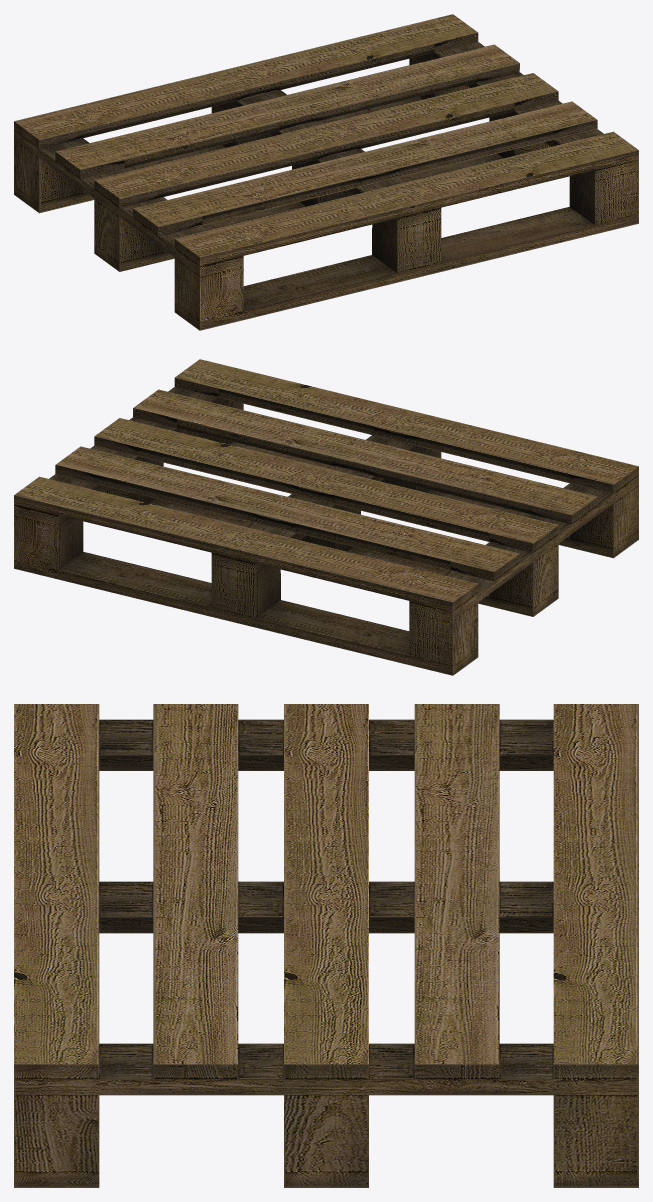
Rendered from pallet.glb.
The picture shows the model from 3 angles, top to bottom: view 1: azimuth 30°, elevation 25°; view 2: azimuth 150°, elevation 25°; view 3: azimuth 270°, elevation 25°; orthographic projection. The views are drawn at different scales.
Parts seen in each view (by area): view 1: Pallet; view 2: Pallet; view 3: Pallet.
Part boxes in pixels (box(x1,y1,x2,y2)): Pallet: box(14, 14, 638, 330); Pallet: box(14, 359, 638, 675); Pallet: box(14, 704, 638, 1187).
Bounding box in the file's own units: 1.5 × 0.2399 × 1.1.
1 material, 1 textured.
